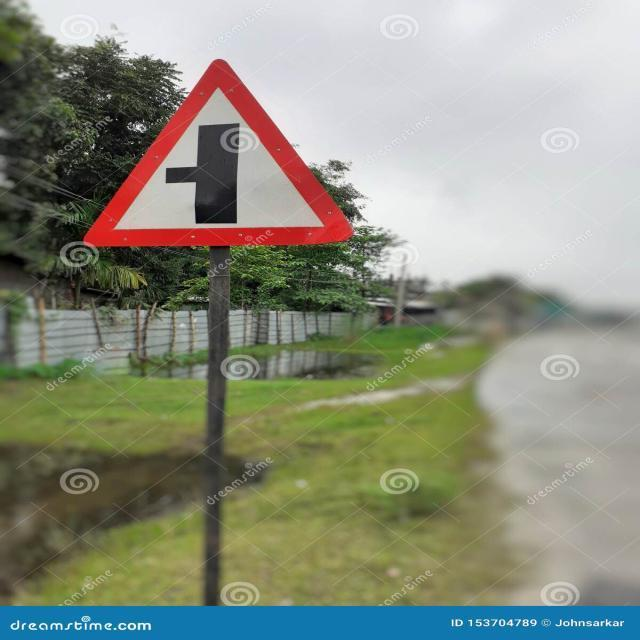side road left: (81, 59, 348, 244)
